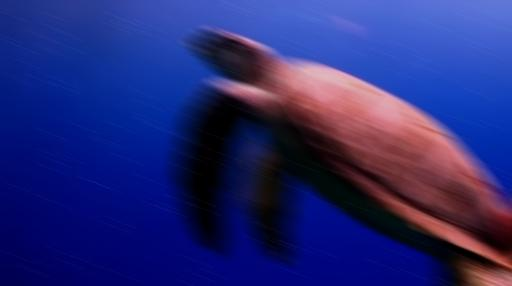Fish: (175, 31, 511, 285)
